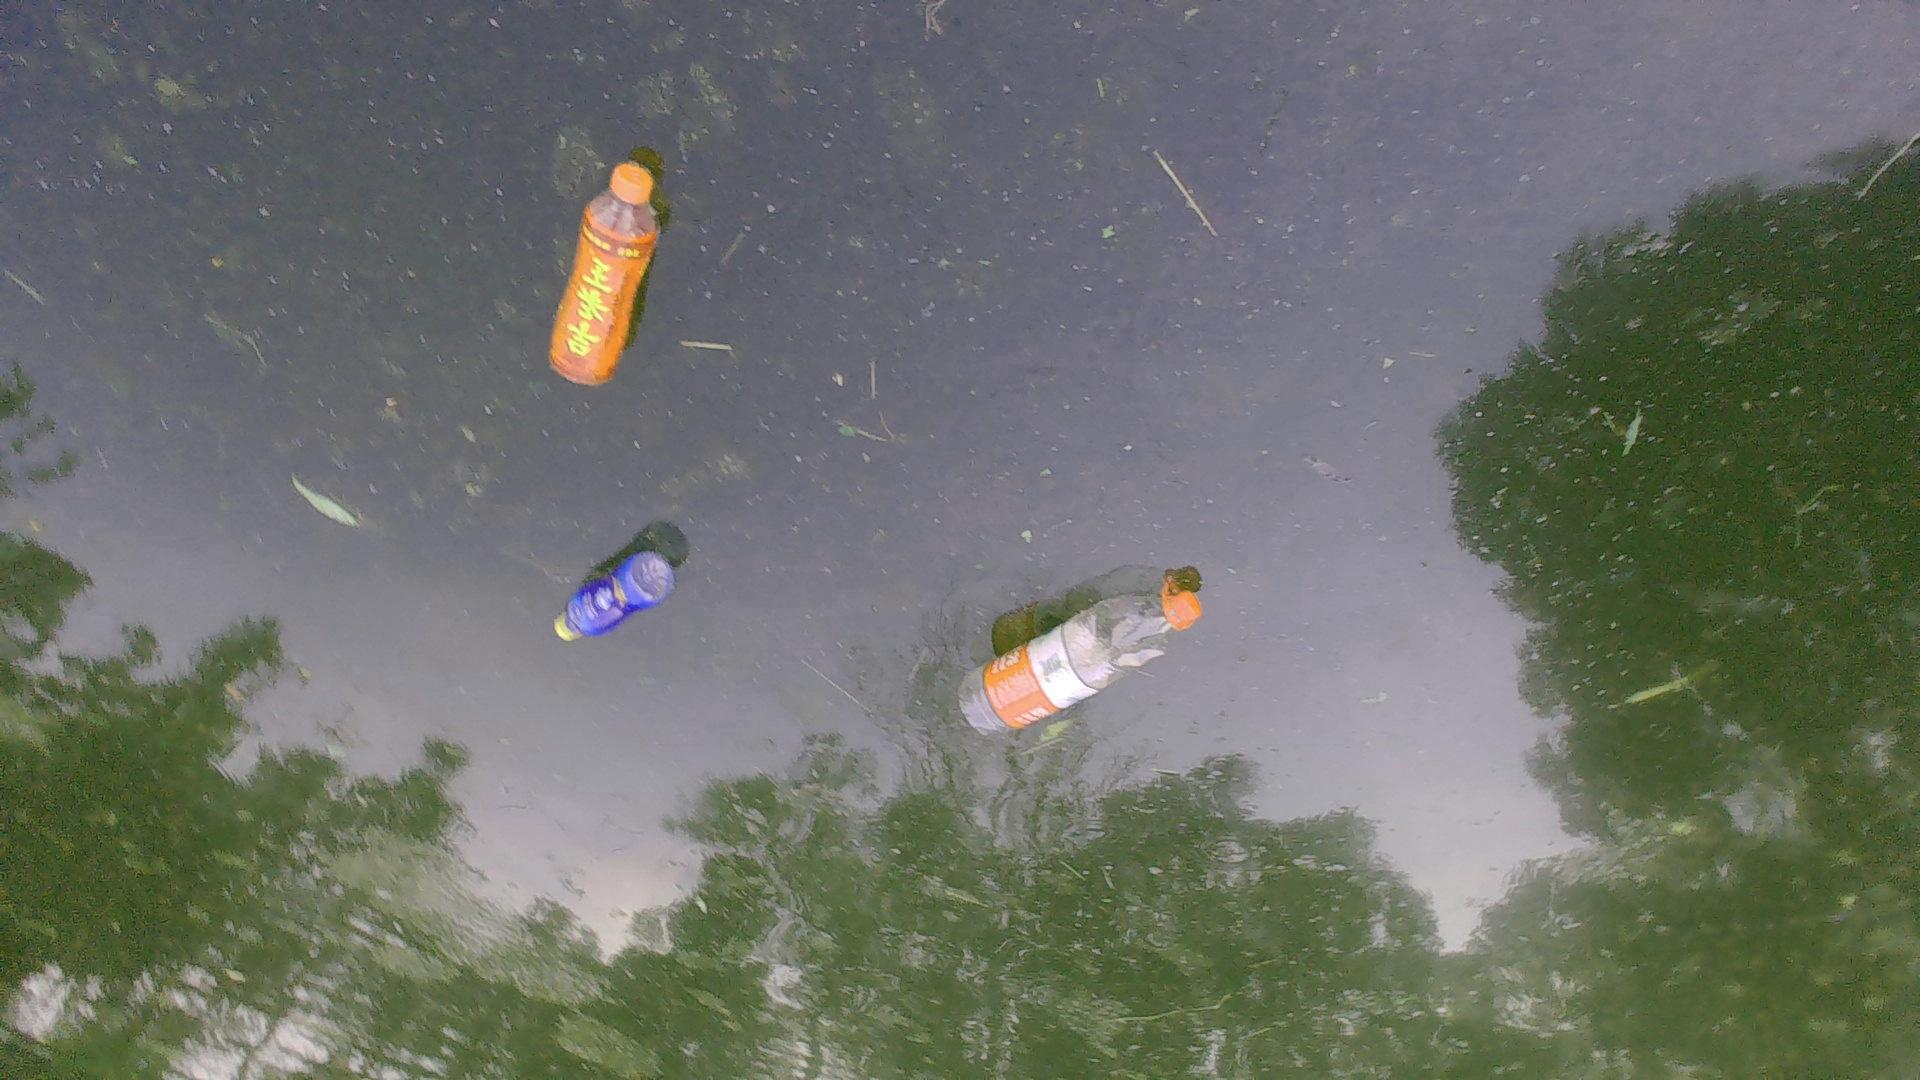Plastic: (948, 574, 1207, 742), (542, 156, 663, 393), (539, 553, 684, 653)
